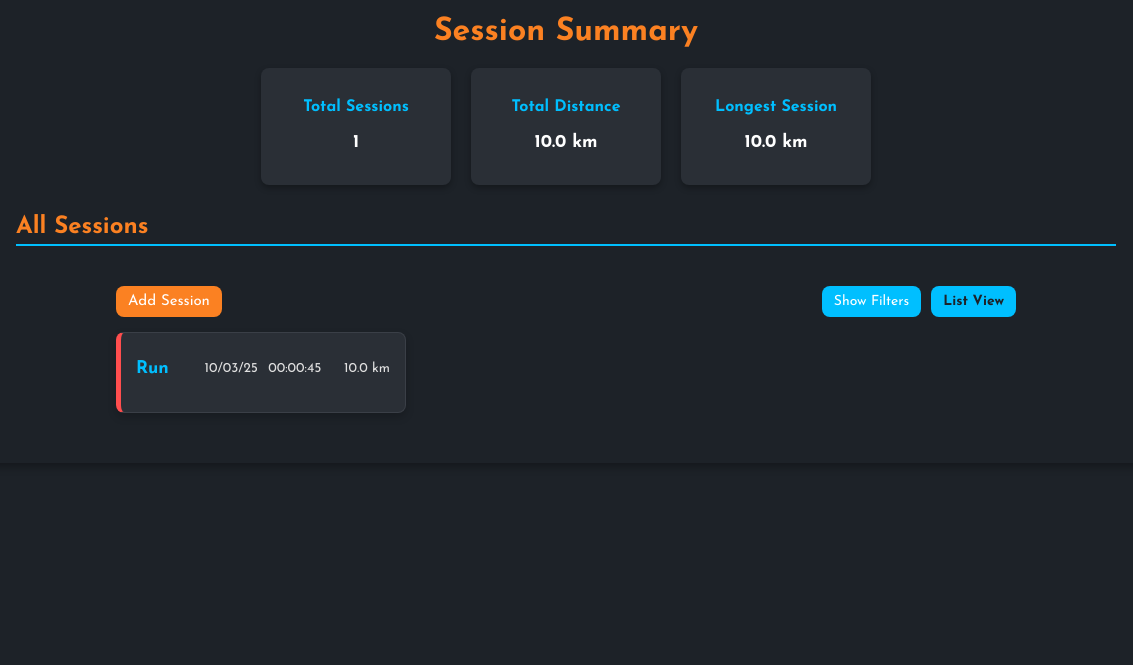
allows deleting a session
Expected: the heading "All Sessions" is shown, [16, 215, 1116, 246]
Click the heading "Run" at {"x": 152, "y": 368}, box [136, 360, 169, 377]
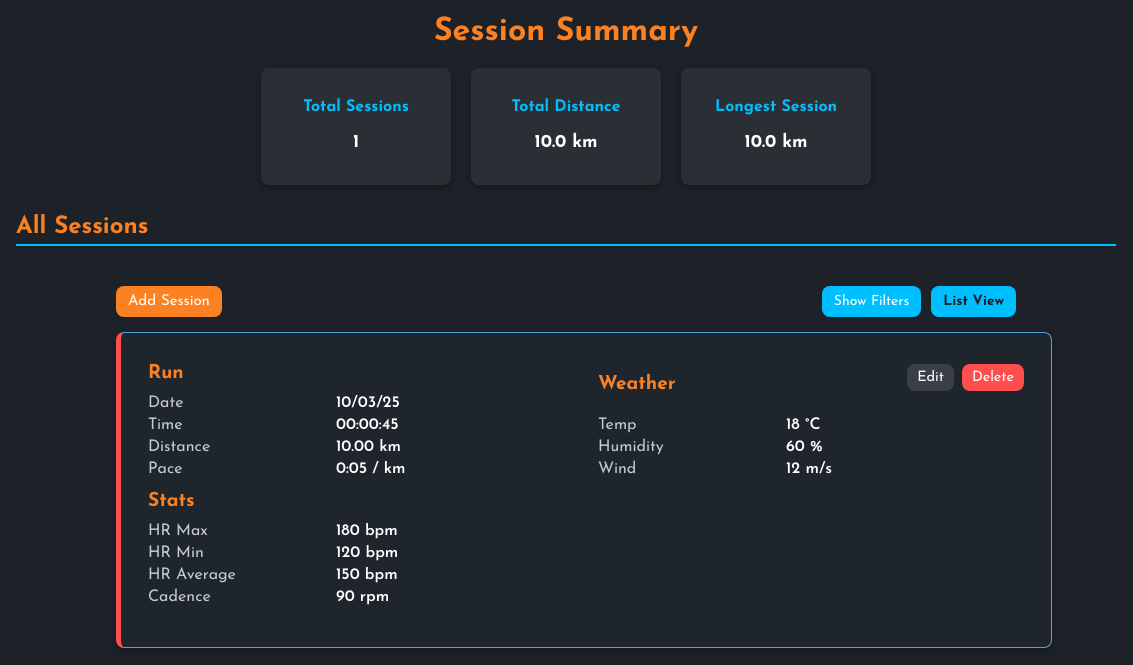
Now the button "Delete" is shown
Click the button "Delete" at {"x": 993, "y": 378}, box [962, 364, 1024, 391]
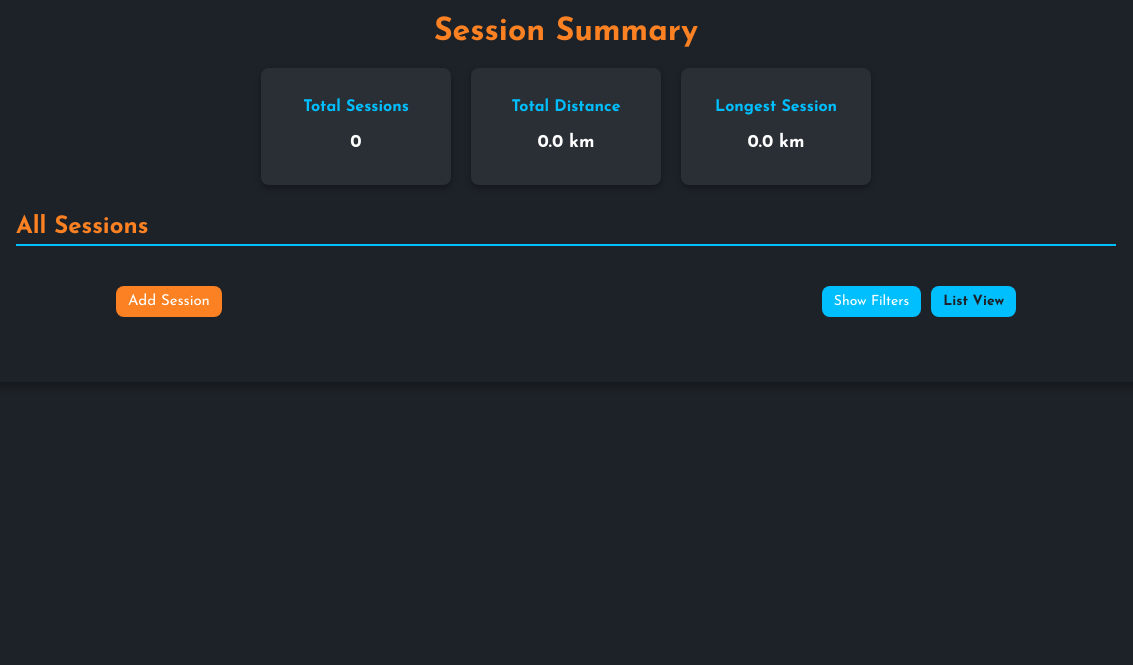
Now the heading "Run" is gone
